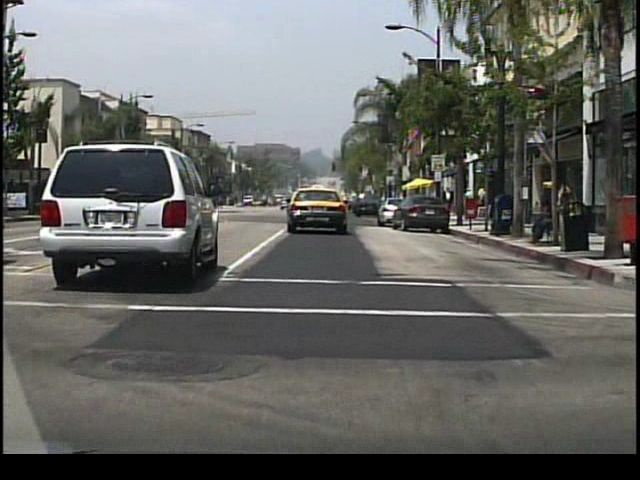person: (527, 191, 564, 246), (553, 177, 569, 235), (442, 184, 455, 218), (475, 182, 485, 216)
